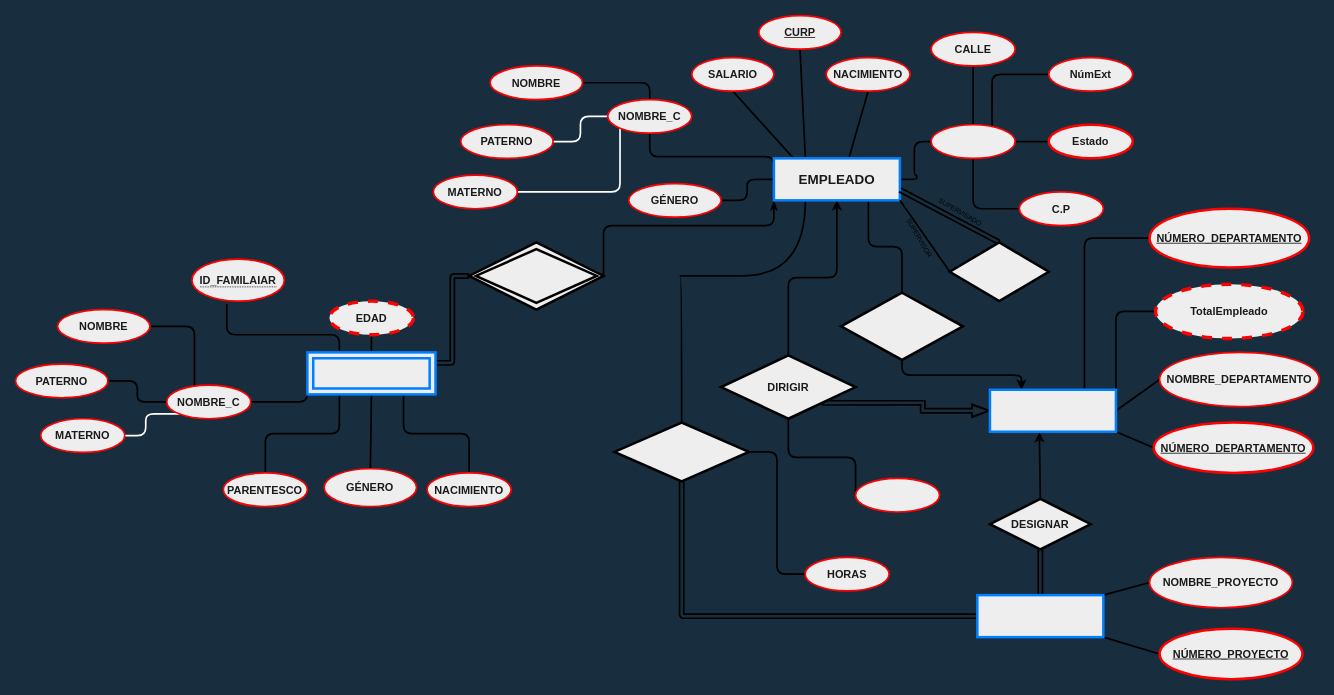
The diagram is 1334 pixels wide and 695 high, and some of its shapes have lost their labels. The shapes that lost their labels are listed below. From the top down, each one's centre as x and y in pixels, then its label:
At (973,141): "DIRECCION".
At (535,275): "TENER".
At (999,271): "SUPERVISAR".
At (901,326): "ASIGNAR".
At (371,373): "FAMILIAR".
At (1052,410): "DEPARTAMENTO".
At (681,451): "PARTICIPAR".
At (897,494): "FECHA".
At (1040,615): "PROYECTO".
